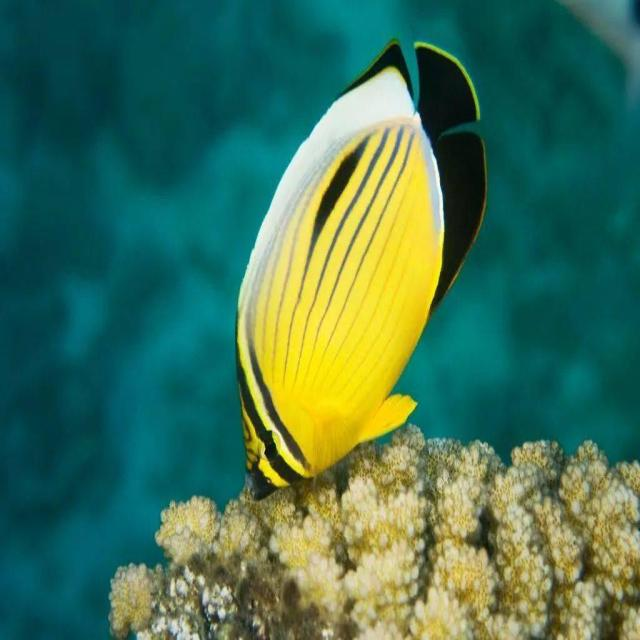ButterflyFish: (236, 40, 485, 498)
